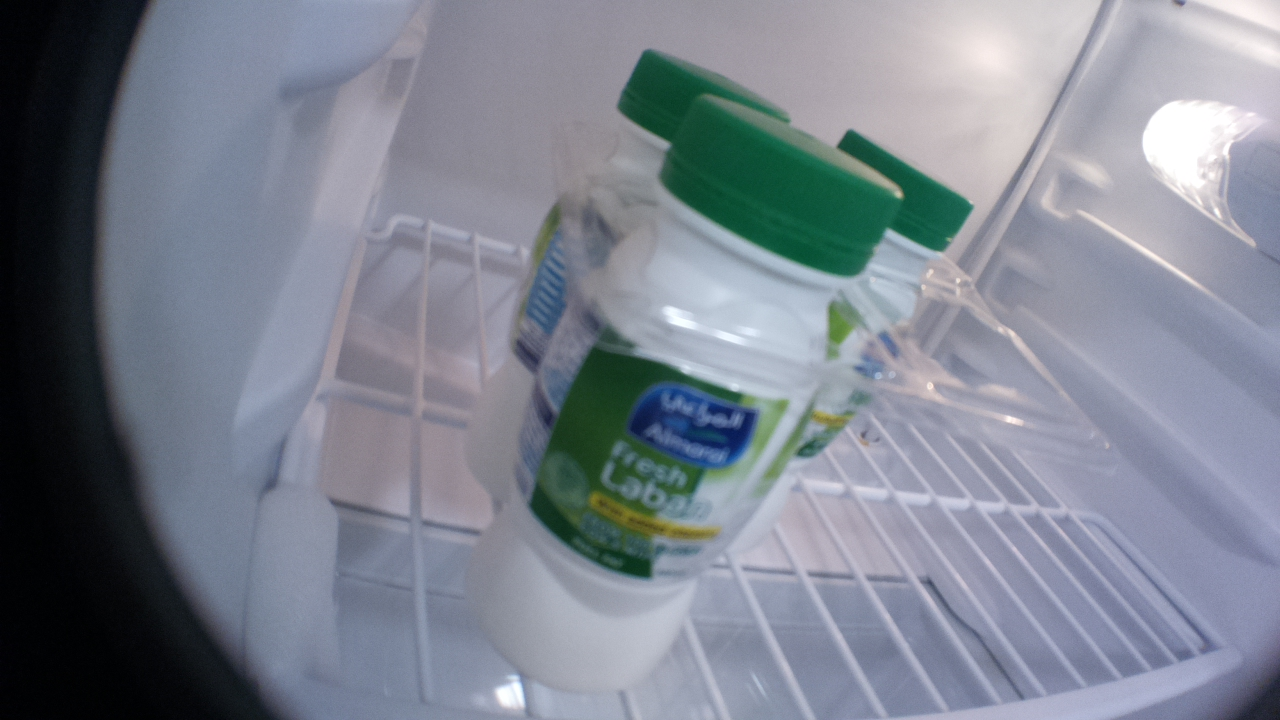laban: (466, 93, 901, 690), (465, 50, 790, 503), (797, 129, 975, 460)
